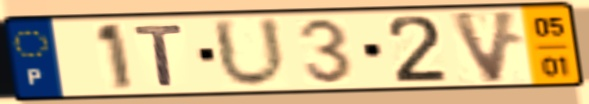1: (94, 22, 137, 92)
2: (385, 13, 453, 85)
3: (296, 16, 357, 87)
T: (131, 22, 188, 88)
U: (208, 14, 292, 91)
V: (445, 8, 523, 87)
